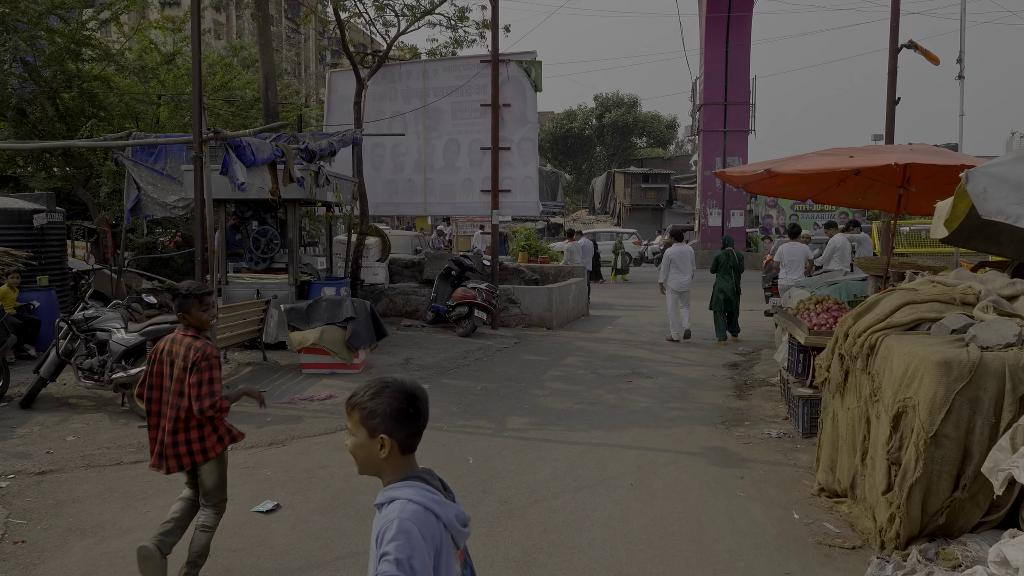garbage: (248, 496, 282, 516)
